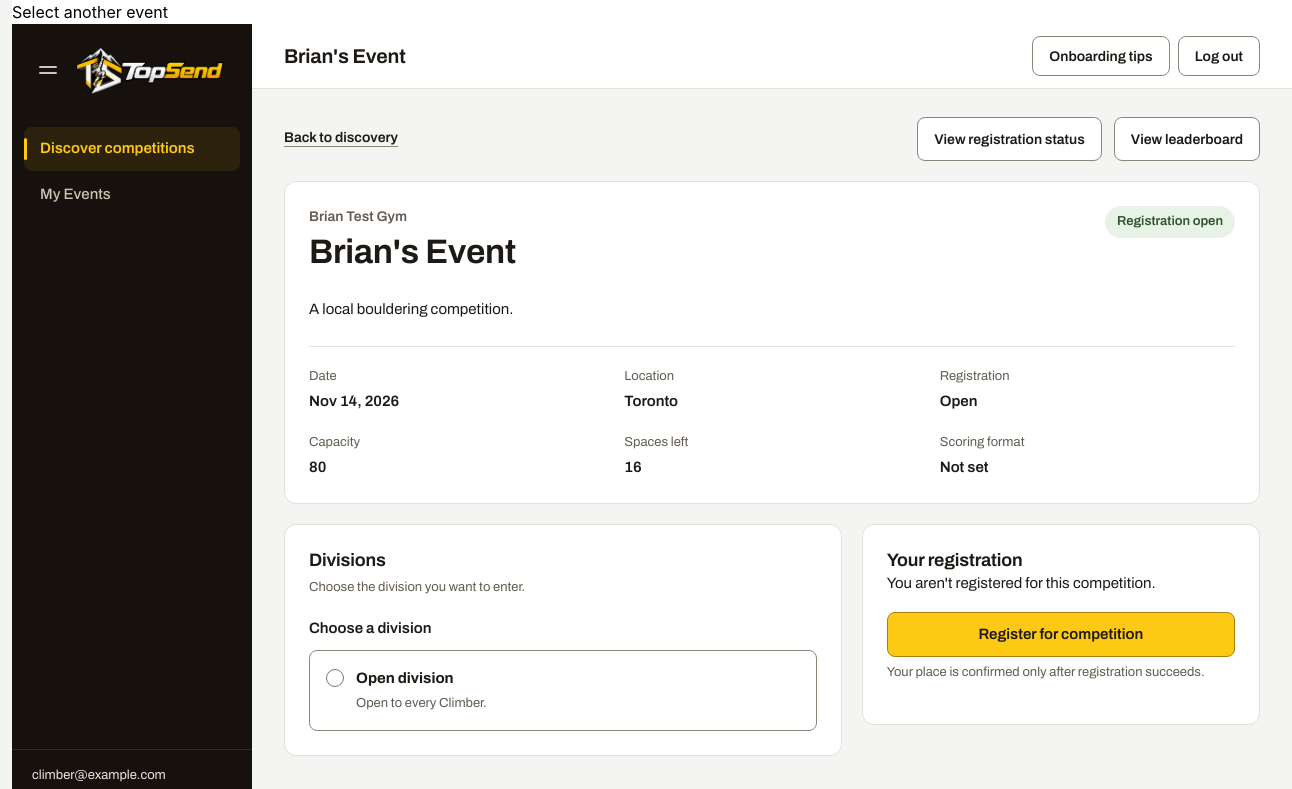
Test: US-028 live event page integrated with #109/#110 › offers the latest details after stale capacity is rejected and then displays the actual full state
The image size is (1292, 789).
expect the element named "Competition event details" is shown: met, box [284,181,1260,504]
Click the radio button labelled "Open division" at (335, 678), box [326,669,344,687]
(page scrolled)
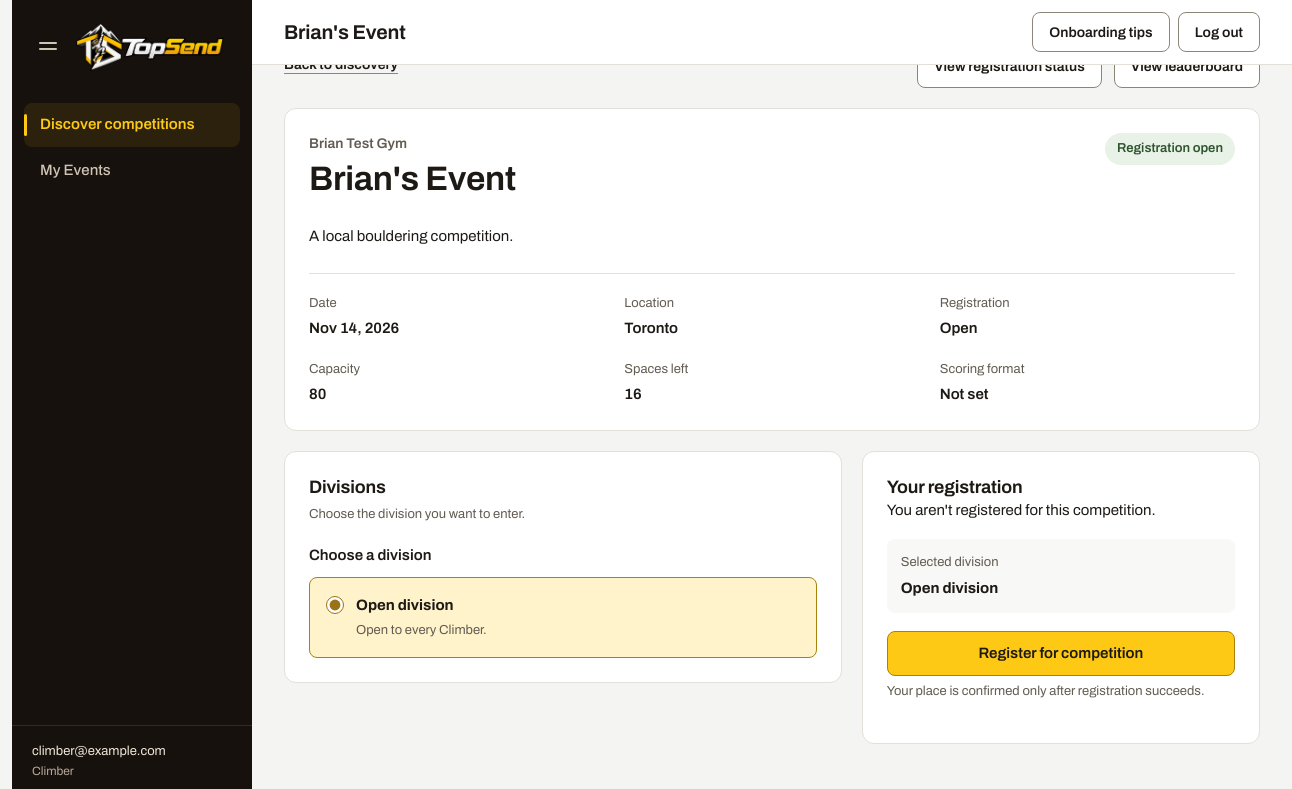
Submit the form named "Competition registration", box [284,450,1260,744]
(page scrolled)
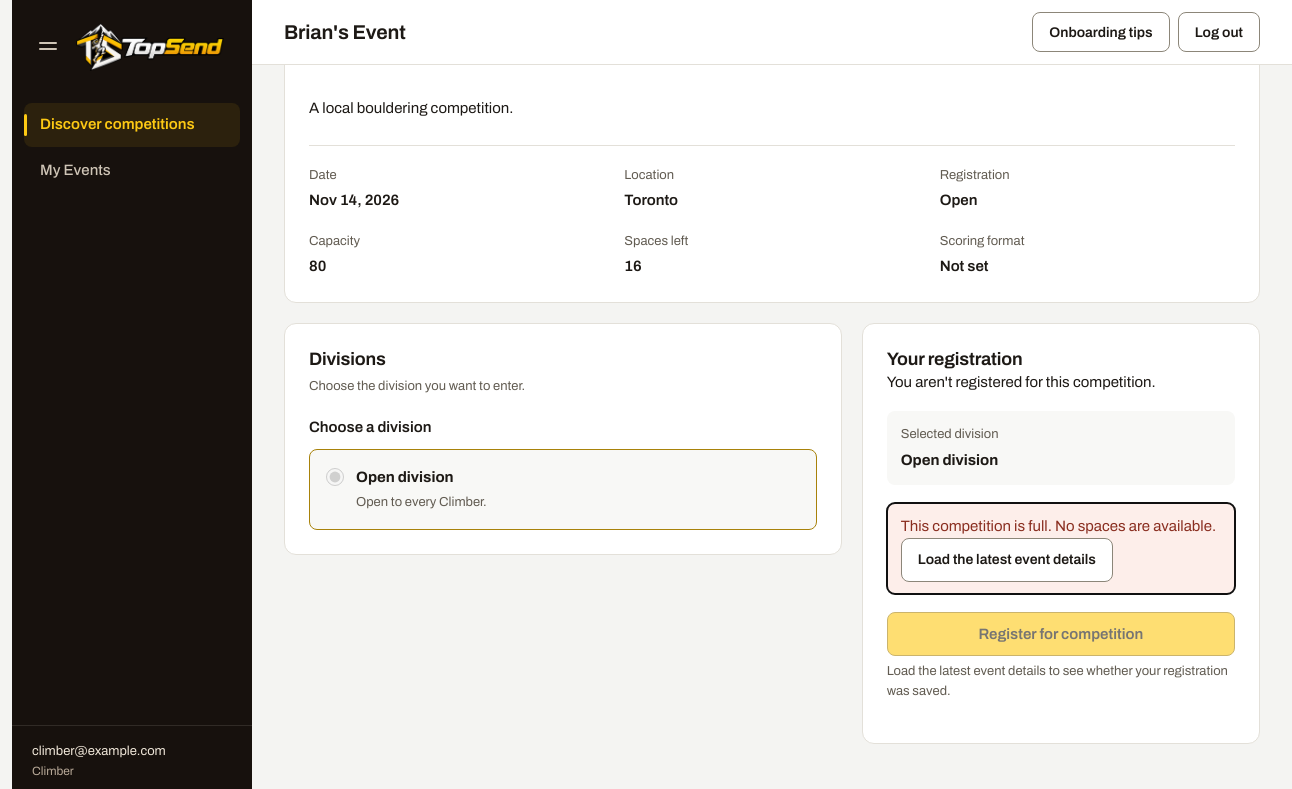
expect the text "This competition is full. No spaces are available." is shown: met, box [901,515,1221,538]
Submit the form named "Competition registration", box [284,322,1260,744]
Click the button "Load the latest event details" at (1007, 560), box [901,538,1113,582]
(page scrolled)
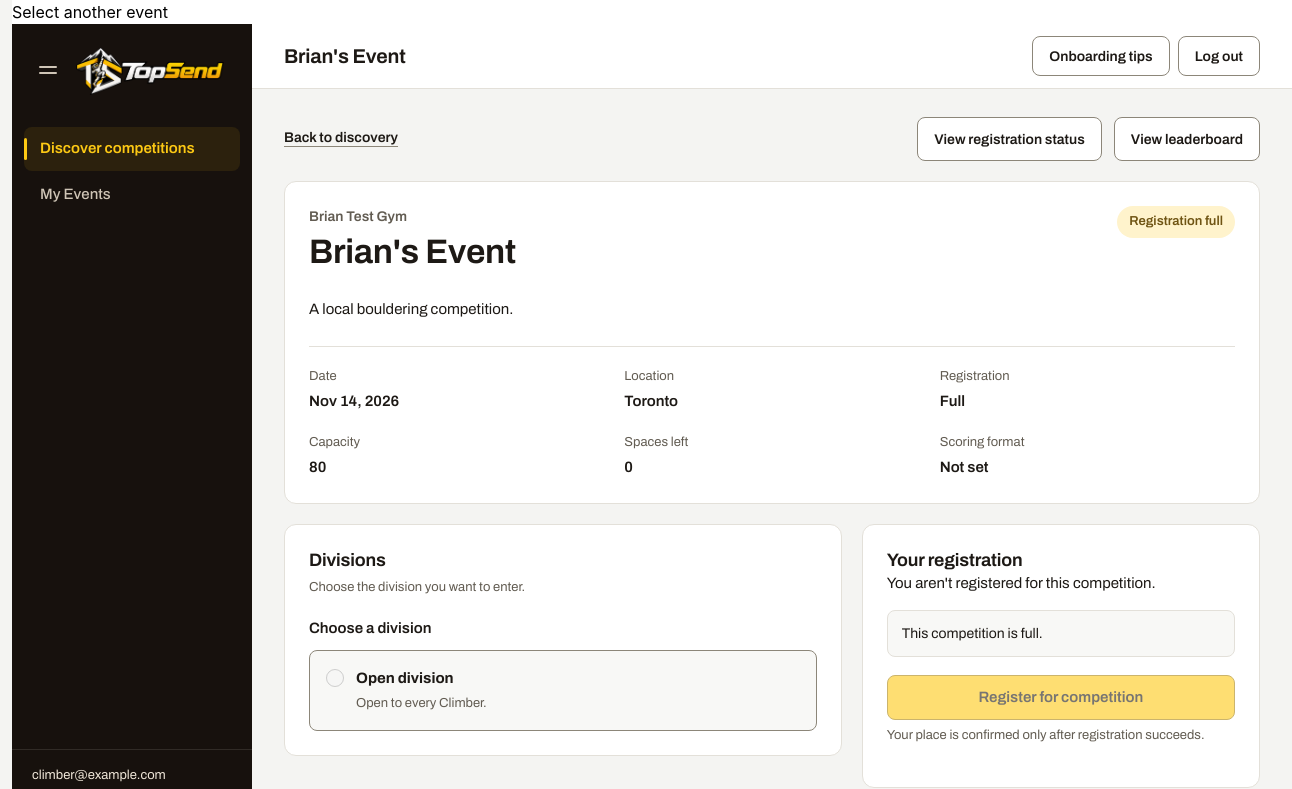
expect the text "This competition is full." is shown: met, box [887,610,1235,657]
expect the text "0" is shown: met, box [624,459,633,475]
